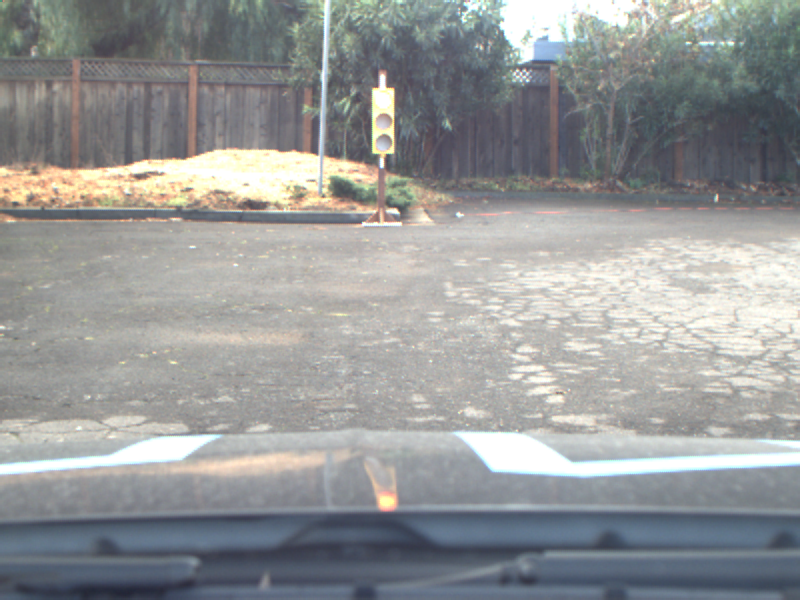Red: (370, 86, 397, 157)
